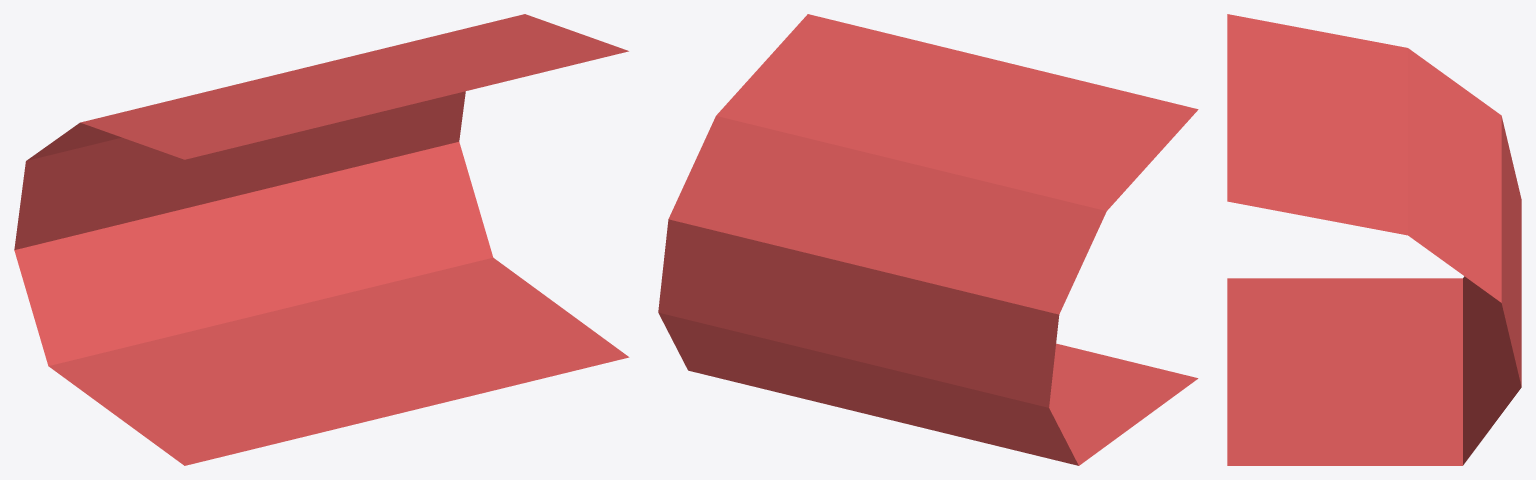
The model's file is mesh_hallway_straight_COLLISION.fbx.
The picture shows the model from 3 angles, left to right: view 1: azimuth 30°, elevation 25°; view 2: azimuth 150°, elevation 25°; view 3: azimuth 270°, elevation 25°; orthographic projection. The views are drawn at different scales.
Visible parts, largest first — view 1: mesh_hallway_straight_COLLISION; view 2: mesh_hallway_straight_COLLISION; view 3: mesh_hallway_straight_COLLISION.
Boxes of the visible parts, <box> form: mesh_hallway_straight_COLLISION: <box>14,14,629,465</box>; mesh_hallway_straight_COLLISION: <box>658,14,1198,465</box>; mesh_hallway_straight_COLLISION: <box>1227,14,1521,465</box>.
Size of the model in its own units: 14 by 9.2 by 9.29.
